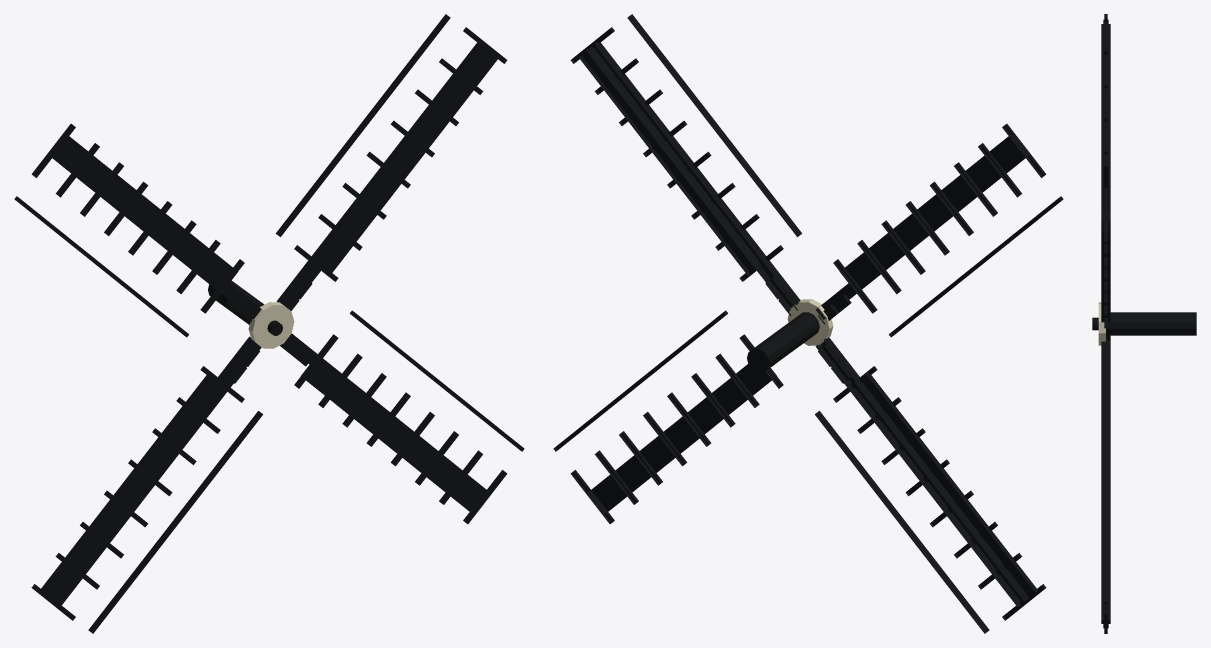
The model's file is chesterton_windmill_rotor.obj.
The picture shows the model from 3 angles, left to right: view 1: azimuth 30°, elevation 25°; view 2: azimuth 150°, elevation 25°; view 3: azimuth 270°, elevation 25°; orthographic projection. The views are drawn at different scales.
Parts seen in each view (by area): view 1: chesterton_windmill_rotor, chesterton_hub; view 2: chesterton_windmill_rotor, chesterton_axle, chesterton_hub; view 3: chesterton_windmill_rotor, chesterton_axle, chesterton_hub.
Boxes of the visible parts, x1=… form: chesterton_windmill_rotor: x1=14, y1=14, x2=524, y2=633; chesterton_hub: x1=248, y1=302, x2=294, y2=348; chesterton_windmill_rotor: x1=553, y1=14, x2=1063, y2=633; chesterton_axle: x1=747, y1=312, x2=819, y2=372; chesterton_hub: x1=787, y1=299, x2=833, y2=345; chesterton_windmill_rotor: x1=1101, y1=14, x2=1110, y2=633; chesterton_axle: x1=1106, y1=312, x2=1196, y2=335; chesterton_hub: x1=1098, y1=302, x2=1105, y2=345.
Size of the model in its own units: 583 by 583 by 115.
